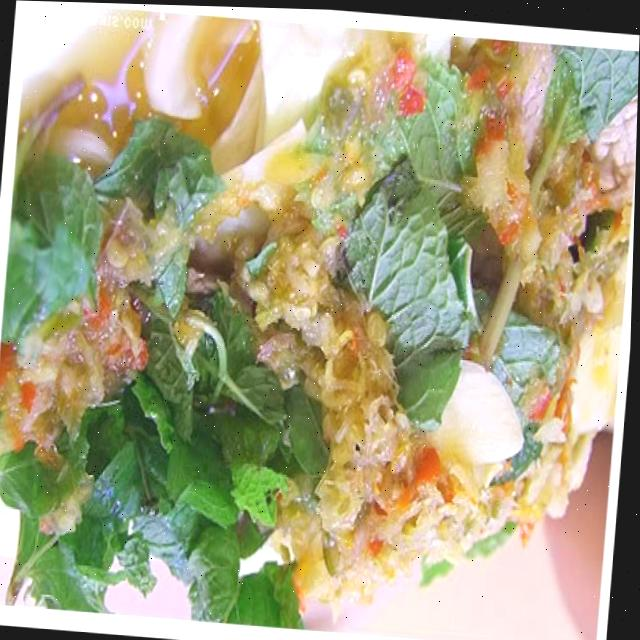猪肉菜式: (0, 27, 638, 638)
